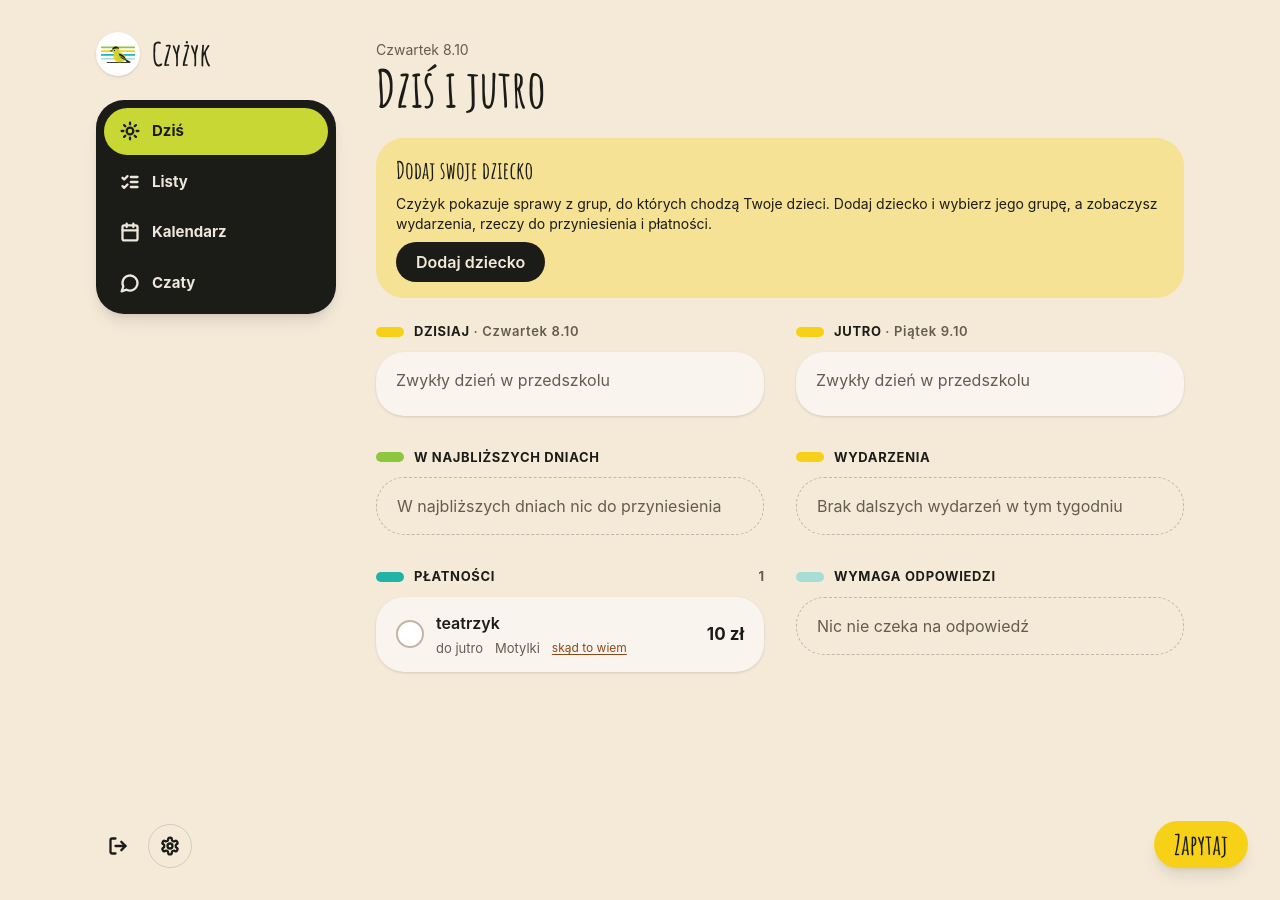
Dziś i jutro › płatność oznaczona jako zapłacona znika z „Dziś”
Click the checkbox named "teatrzyk: zapłacone": (410, 634) 396,620 -> 424,648
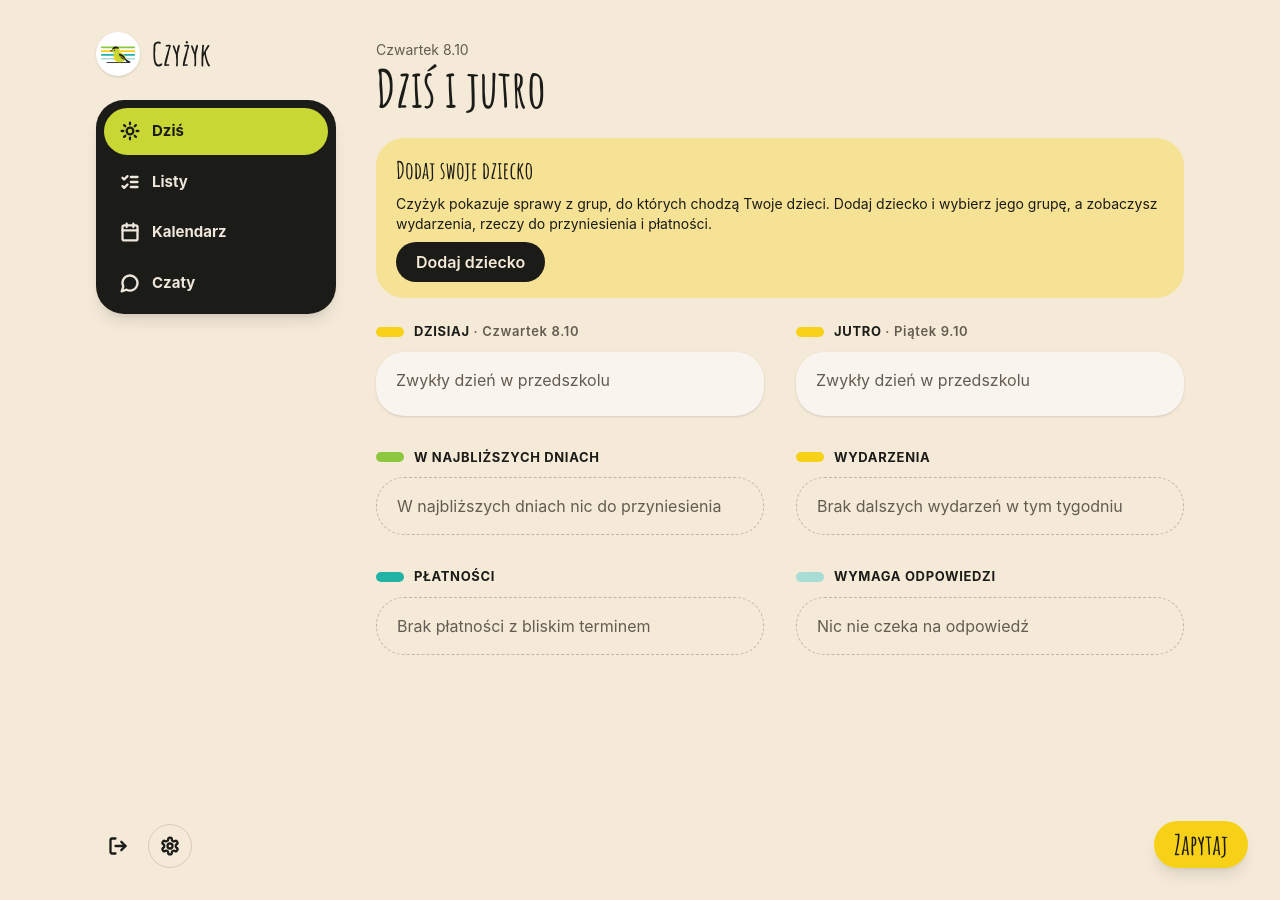
Expected: the text "Brak płatności z bliskim terminem" is shown, 376,596 -> 764,654
